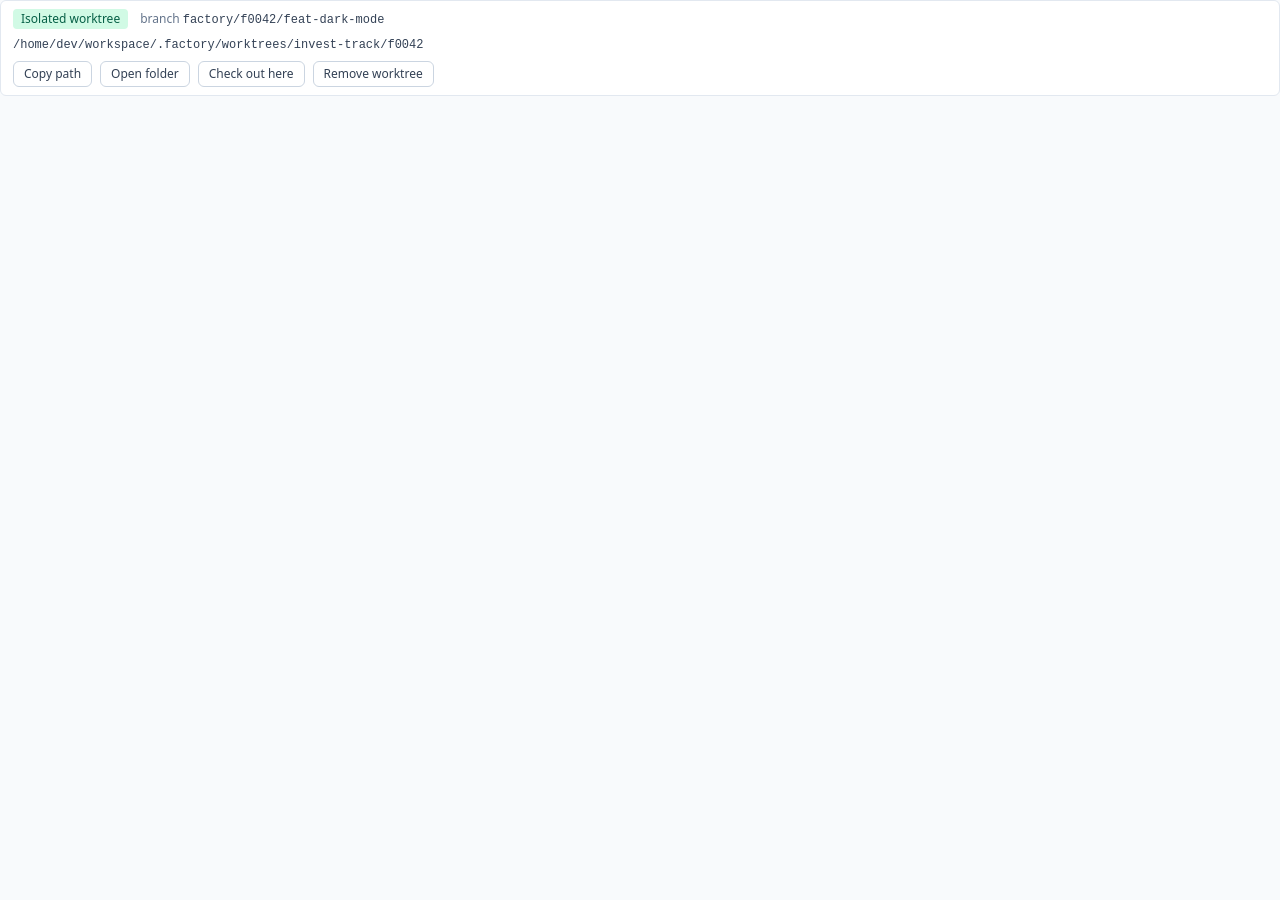
Test case: removing the checkout › asks first, says the branch stays, and removes it
Click the button "Remove worktree" at point(373, 74), box x1=313 y1=61 x2=434 y2=87
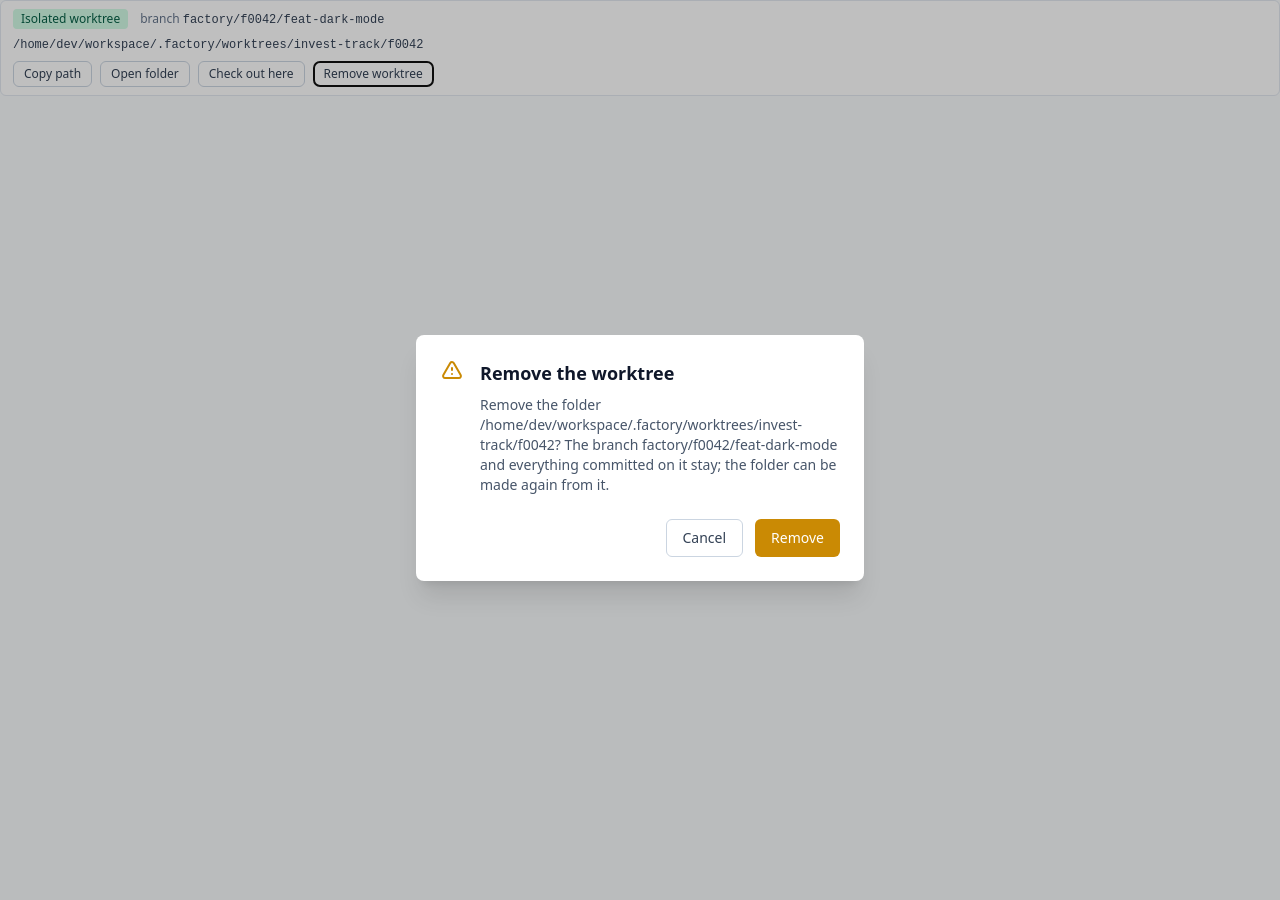
Click the button "Remove" at point(798, 538), box x1=755 y1=519 x2=840 y2=557
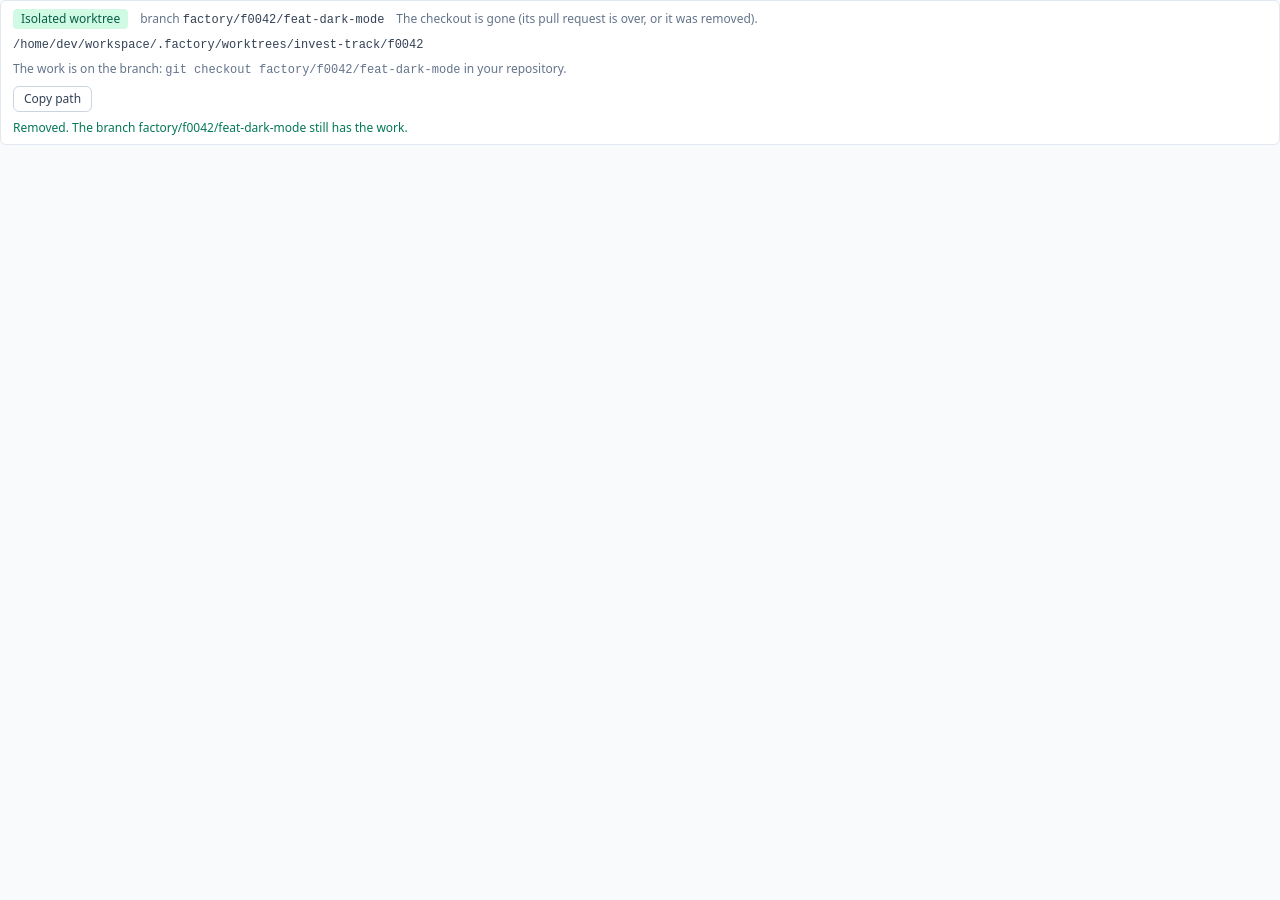
Result: the text "The checkout is gone" is shown at x1=396 y1=10 x2=758 y2=27
